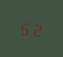five: (19, 18, 30, 36)
two: (31, 20, 42, 37)
